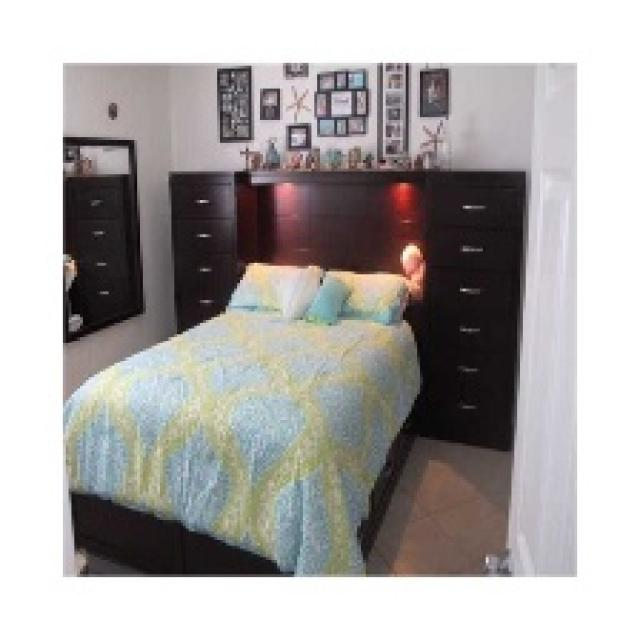Bed: (63, 243, 423, 574)
